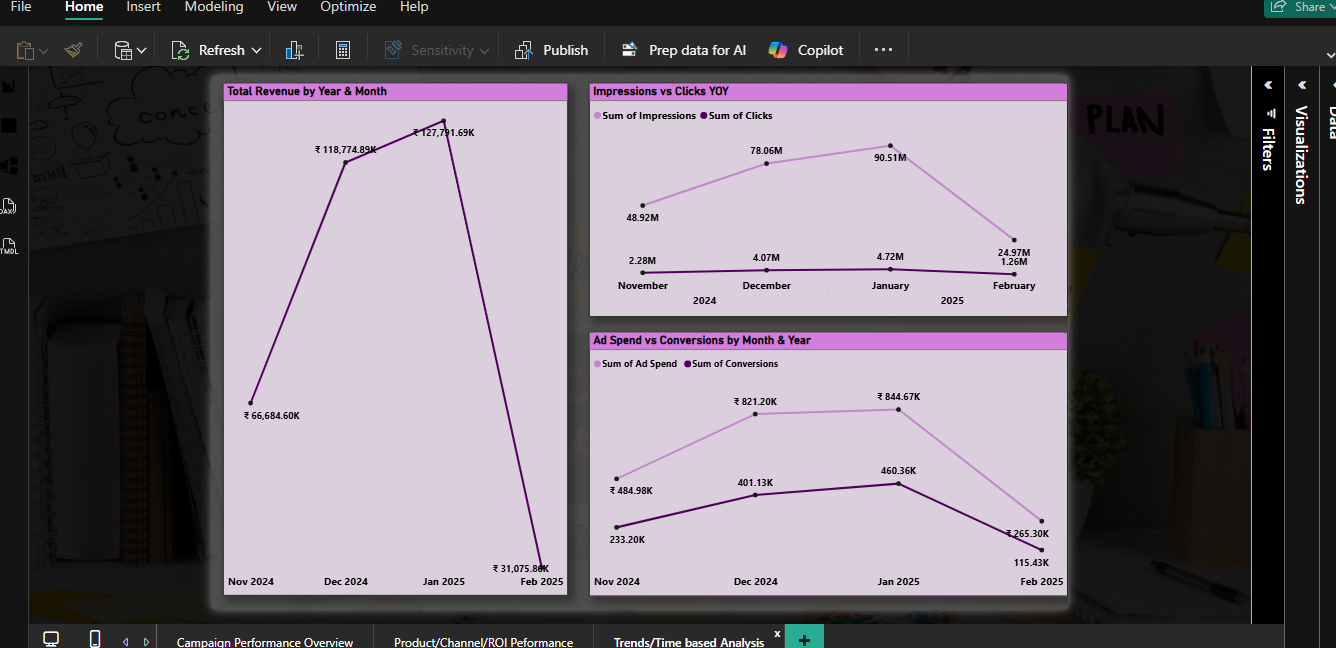

The page's visual inventory and layout, read from the dashboard file:
{"tool":"powerbi","page":{"name":"Trends/Time based Analysis","canvas":[1300,720],"ordinal":2},"visuals":[{"type":"lineChart","title":"Total Revenue by Year & Month","fields":{"Y":["Sum(Clean PowerBI Dataset.Revenue (INR))"],"Category":["Clean PowerBI Dataset.Campaign Date.Variation.Date Hierarchy.Year","Clean PowerBI Dataset.Campaign Date.Variation.Date Hierarchy.Month"]},"box":[20.9,10.4,500,698.5],"z":4000},{"type":"lineChart","title":"Ad Spend vs Conversions by Month & Year ","fields":{"Category":["Clean PowerBI Dataset.Campaign Date.Variation.Date Hierarchy.Year","Clean PowerBI Dataset.Campaign Date.Variation.Date Hierarchy.Month"],"Y":["Sum(Clean PowerBI Dataset.Ad Spend (INR))","Sum(Clean PowerBI Dataset.Conversions)"]},"box":[561.3,370.7,738.7,338.7],"z":5000},{"type":"lineChart","title":"Impressions vs Clicks YOY","fields":{"Category":["Clean PowerBI Dataset.Campaign Date.Variation.Date Hierarchy.Year","Clean PowerBI Dataset.Campaign Date.Variation.Date Hierarchy.Month"],"Y":["Sum(Clean PowerBI Dataset.Impressions)","Sum(Clean PowerBI Dataset.Clicks)"]},"box":[561.3,10.7,738.7,338.7],"z":6000}]}

Visuals, with their boxes on the page's 1300x720 design canvas (x1, y1, x2, y2). These are canvas units, not pixel positions in the 1336x648 screenshot, which may show the page scaled, cropped or inside an application window:
"Total Revenue by Year & Month" lineChart: detection(21, 10, 521, 709)
"Ad Spend vs Conversions by Month & Year " lineChart: detection(561, 371, 1300, 709)
"Impressions vs Clicks YOY" lineChart: detection(561, 11, 1300, 349)
